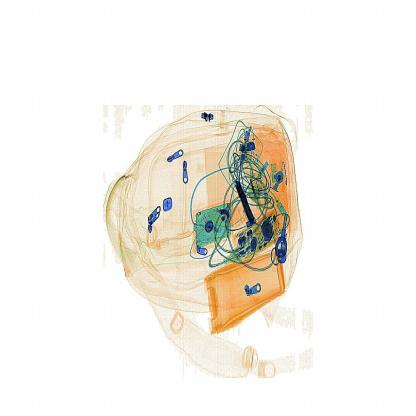knife: (228, 172, 264, 232)
